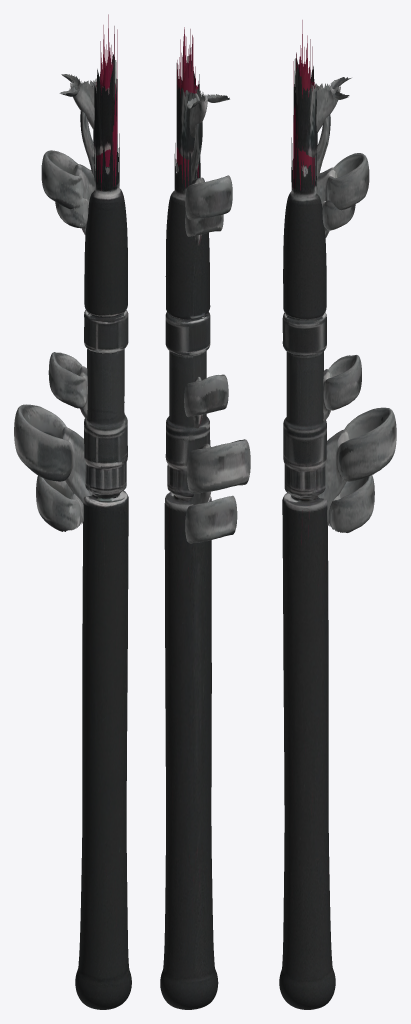
File: spin_ironwood.glb
3 views of the same model, side by side, from view 1: azimuth 90°, elevation 25°; view 2: azimuth 210°, elevation 25°; view 3: azimuth 270°, elevation 25° (orthographic).
Visible parts, largest first — view 1: Handle, Seg2, Seg5, Seg4, Seg7, Seg1, Seg3, Seg8, Seg0, Seg9; view 2: Handle, Seg2, Seg4, Seg7, Seg5, Seg1, Seg3, Seg8, Seg0, Seg9; view 3: Handle, Seg2, Seg5, Seg4, Seg7, Seg1, Seg3, Seg0, Seg8, Seg9.
Boxes of the visible parts, x1,y1,x2,y2 form: Handle: (75,133,131,1009); Seg2: (14,34,114,503); Seg5: (41,54,111,209); Seg4: (36,25,114,531); Seg7: (48,45,112,419); Seg1: (90,54,117,155); Seg3: (59,74,109,129); Seg8: (55,14,109,235); Seg0: (96,29,119,498); Seg9: (80,84,95,177); Handle: (160,138,218,1009); Seg2: (178,37,250,504); Seg4: (180,29,237,543); Seg7: (182,37,228,428); Seg5: (185,61,232,219); Seg1: (176,56,199,159); Seg3: (180,84,229,137); Seg8: (184,29,223,245); Seg0: (176,27,198,187); Seg9: (191,93,202,182); Handle: (279,137,335,1009); Seg2: (296,45,396,509); Seg5: (299,50,369,210); Seg4: (296,35,374,532); Seg7: (299,64,361,421); Seg1: (293,58,319,157); Seg3: (294,77,351,132); Seg0: (291,61,315,497); Seg8: (301,20,355,237); Seg9: (315,87,330,180).
Size of the model in its own units: 0.0405 by 0.6793 by 0.0733.
1 material, 1 textured.
